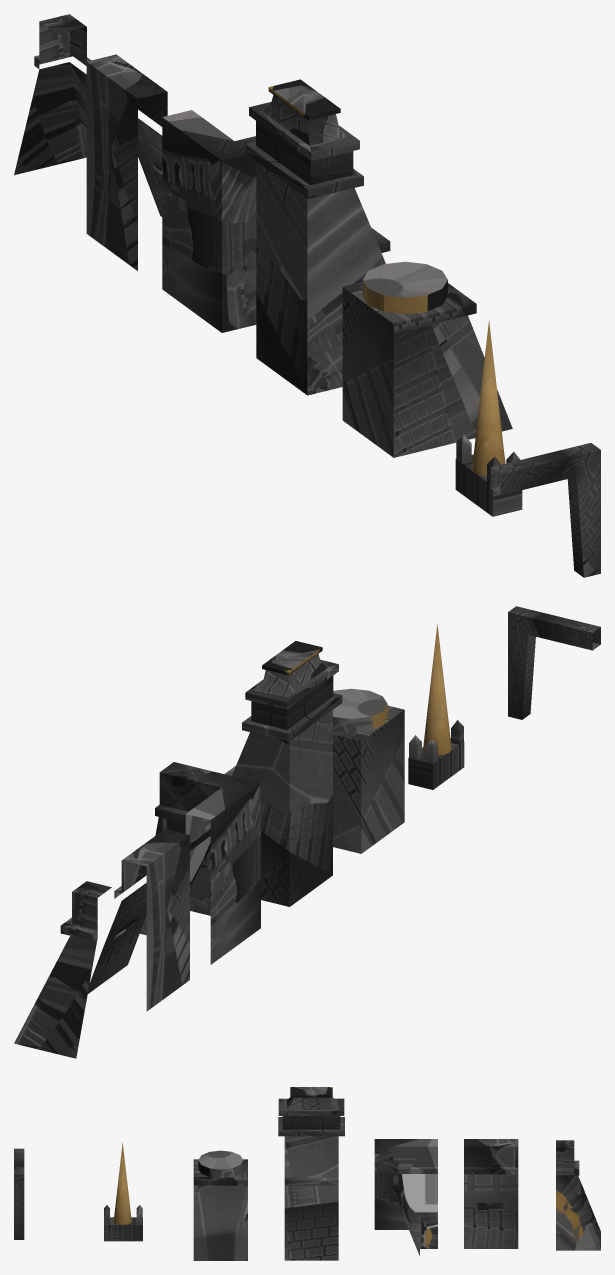
Rendered from wall_low.fbx.
The picture shows the model from 3 angles, top to bottom: view 1: azimuth 30°, elevation 25°; view 2: azimuth 150°, elevation 25°; view 3: azimuth 270°, elevation 25°; orthographic projection. The views are drawn at different scales.
Parts seen in each view (by area): view 1: HighWall_Low.001, Base de torreta_Low, Esquina dentro_Low.002, LowWall_Low, Esquina fuera_Low, CONECTOR_Low, pico portal_Low; view 2: HighWall_Low.001, Esquina dentro_Low.002, LowWall_Low, Base de torreta_Low, Esquina fuera_Low, CONECTOR_Low, pico portal_Low; view 3: HighWall_Low.001, Esquina dentro_Low.002, LowWall_Low, Base de torreta_Low, Esquina fuera_Low, pico portal_Low, CONECTOR_Low.
Part boxes in pixels (x1,y1,x2,y2): HighWall_Low.001: [245, 79, 390, 395]; Base de torreta_Low: [342, 261, 512, 457]; Esquina dentro_Low.002: [162, 110, 256, 332]; LowWall_Low: [86, 54, 167, 270]; Esquina fuera_Low: [14, 14, 91, 175]; CONECTOR_Low: [490, 443, 600, 577]; pico portal_Low: [455, 320, 522, 516]; HighWall_Low.001: [224, 641, 342, 906]; Esquina dentro_Low.002: [140, 762, 260, 964]; LowWall_Low: [87, 829, 189, 1011]; Base de torreta_Low: [333, 688, 404, 853]; Esquina fuera_Low: [14, 881, 111, 1058]; CONECTOR_Low: [508, 606, 600, 719]; pico portal_Low: [408, 624, 464, 789]; HighWall_Low.001: [278, 1087, 344, 1260]; Esquina dentro_Low.002: [374, 1139, 437, 1255]; LowWall_Low: [464, 1139, 518, 1248]; Base de torreta_Low: [193, 1150, 247, 1260]; Esquina fuera_Low: [556, 1140, 600, 1250]; pico portal_Low: [104, 1143, 142, 1241]; CONECTOR_Low: [14, 1148, 24, 1239].
Bounding box in the file's own units: 1234 × 1769 × 6499.
